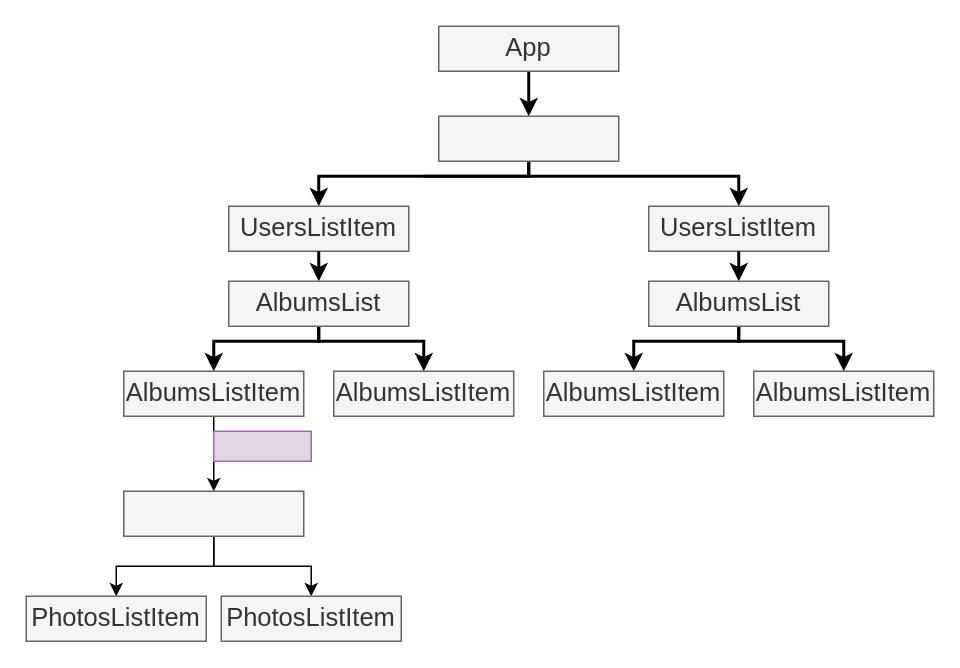
This 960x668 diagram has some shape labels left out. The centre of each missing label's shape, as x and y in pixels:
"album" belongs at point (261, 445).
"PhotosList" belongs at point (213, 513).
"UsersList" belongs at point (528, 138).
